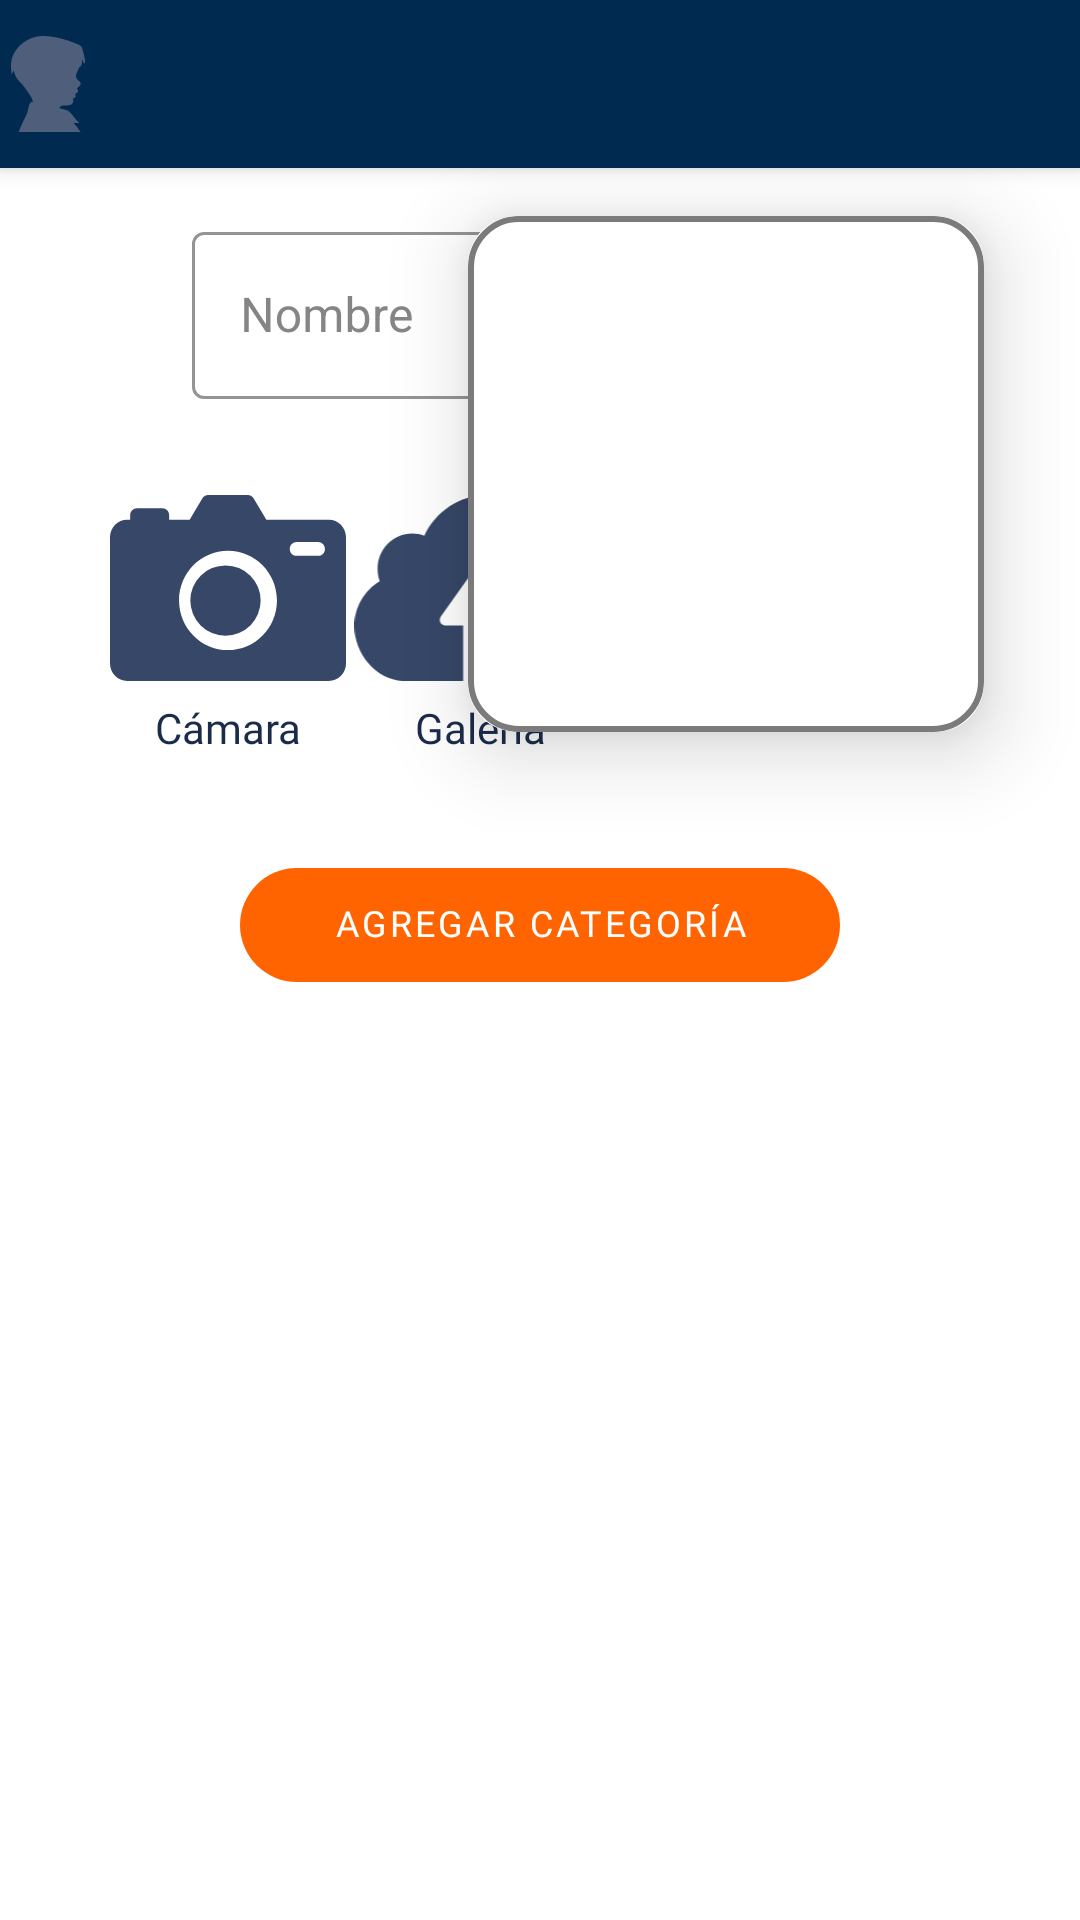

Locate icon controls on the screen. Image size 1080x1920, boxes as (x1, y1, x2, y2).
cmi boy: (11, 36, 85, 132)
